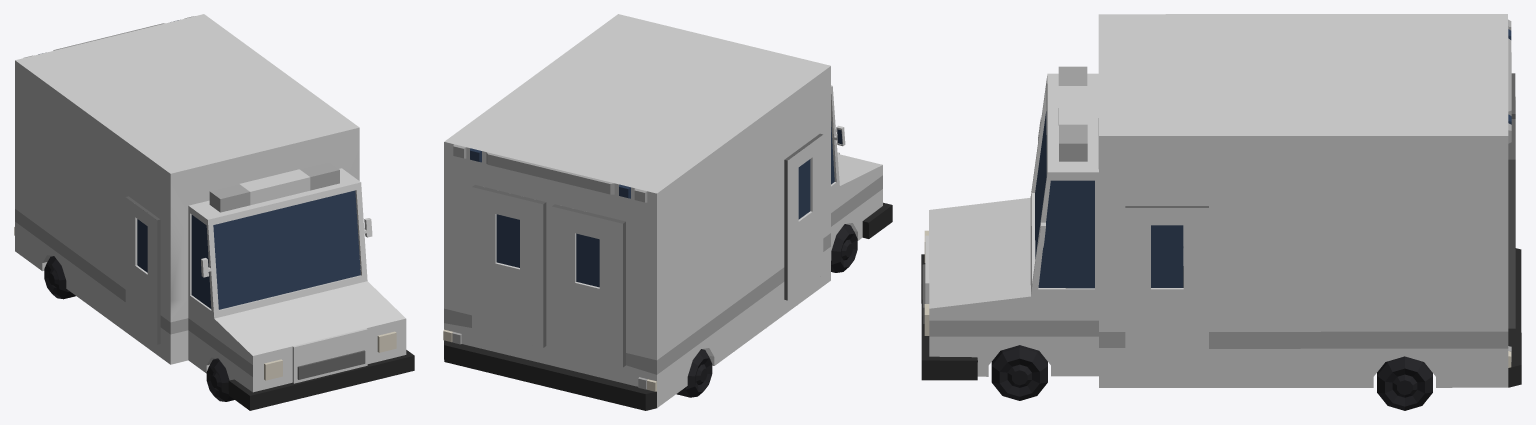
File: ambulance.glb
3 renders of one model, left to right at view 1: azimuth 30°, elevation 25°; view 2: azimuth 150°, elevation 25°; view 3: azimuth 270°, elevation 25°, orthographic. The views are drawn at different scales.
Parts seen in each view (by area): view 1: paint, glass, trim, tyre, light; view 2: paint, trim, glass, tyre; view 3: paint, glass, trim, tyre.
Boxes of the visible parts, <box> form: paint: <box>15,14,406,392</box>; glass: <box>38,20,360,309</box>; trim: <box>126,196,414,410</box>; tyre: <box>44,256,234,401</box>; light: <box>14,227,396,380</box>; paint: <box>444,14,882,407</box>; trim: <box>444,133,892,410</box>; glass: <box>470,121,842,287</box>; tyre: <box>676,224,857,397</box>; paint: <box>925,14,1515,387</box>; glass: <box>1035,29,1511,288</box>; trim: <box>921,73,1521,387</box>; tyre: <box>991,345,1432,410</box>.
Bounding box in the file's own units: 2.98 × 3.06 × 6.
